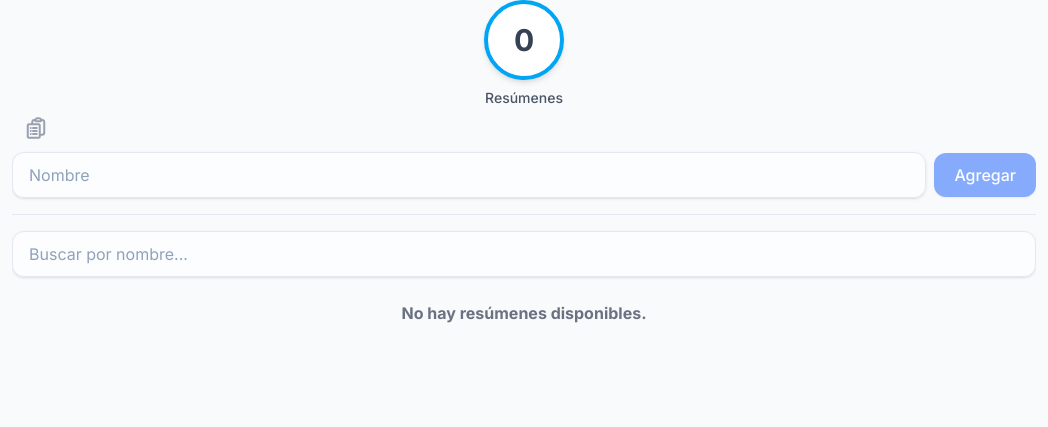
it: Summaries.vue › adds a summary when entering a name and clicking Agregar
The width and height of the screenshot is (1048, 427).
In the field named "Nombre del resumen": (469, 175) [12,152,926,198], type "Test Summary"
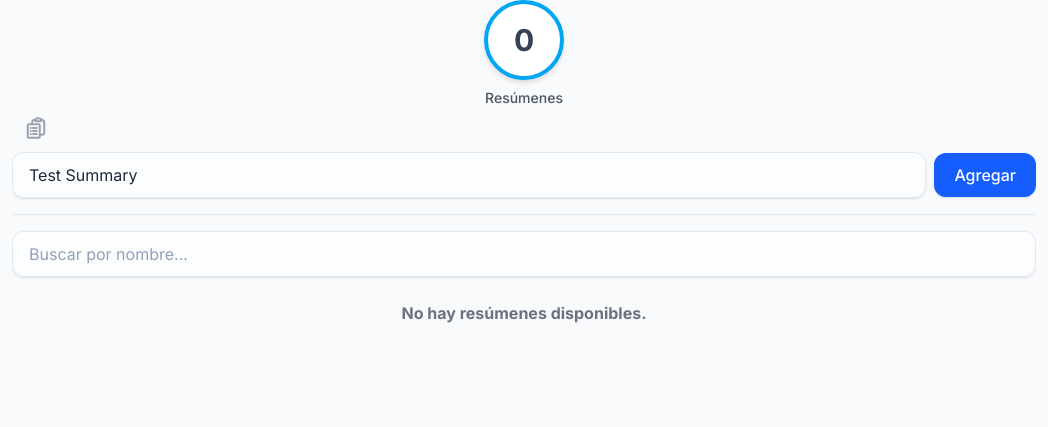
Click the button "Agregar": (985, 175) [934,153,1036,197]
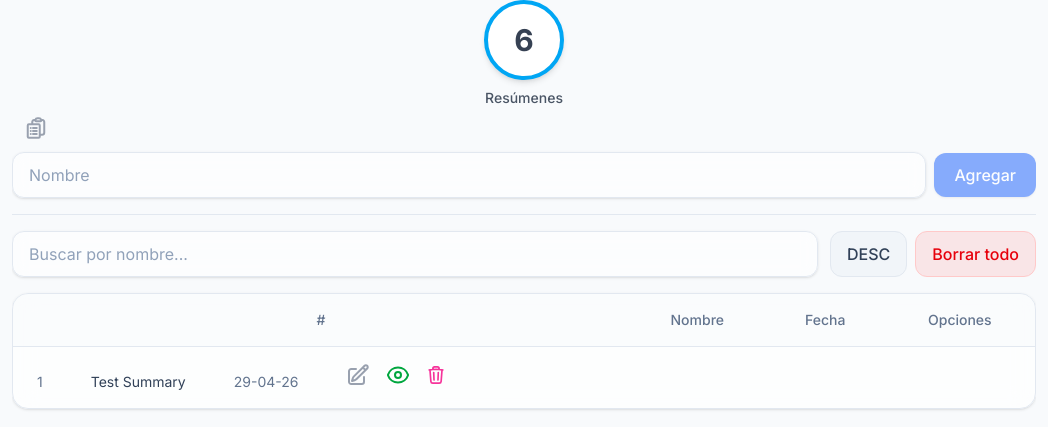
Expected: the cell "Test Summary" is shown, [67,347,210,408]
